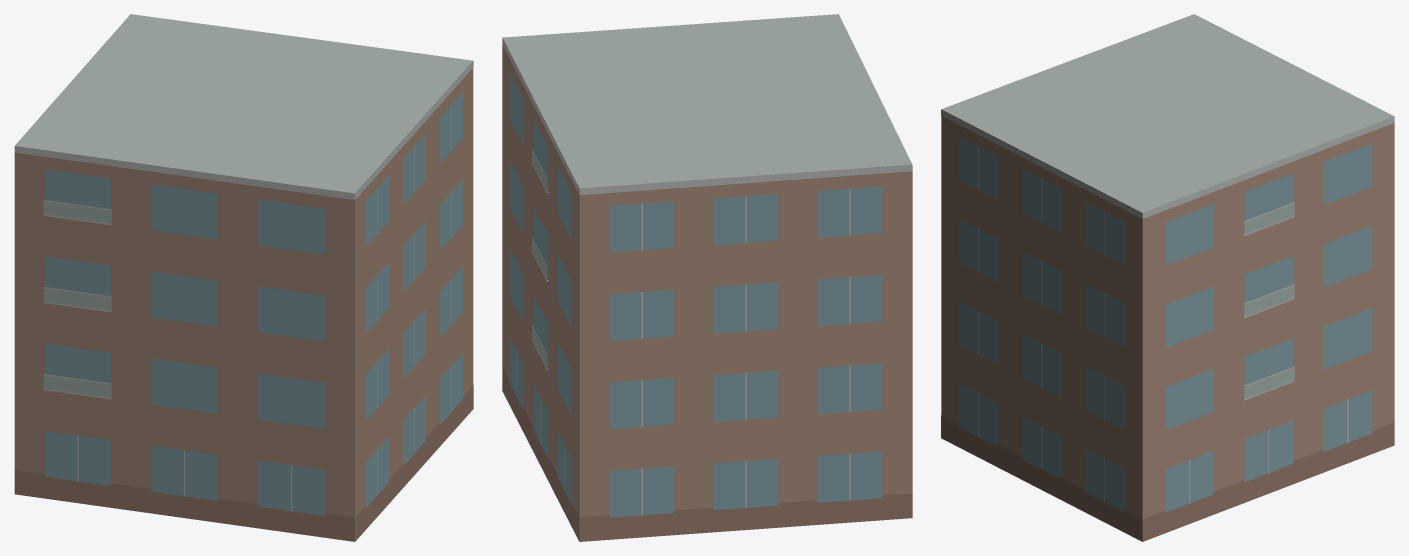
Rendered from survey-upis-32910444.glb.
The picture shows the model from 3 angles, left to right: view 1: azimuth 30°, elevation 25°; view 2: azimuth 150°, elevation 25°; view 3: azimuth 270°, elevation 25°; orthographic projection. The views are drawn at different scales.
Visible parts, largest first — view 1: survey-upis-32910444.tmp; view 2: survey-upis-32910444.tmp; view 3: survey-upis-32910444.tmp.
Boxes of the visible parts, left/top/right/bottom form: survey-upis-32910444.tmp: left=14, top=14, right=473, bottom=541; survey-upis-32910444.tmp: left=502, top=14, right=912, bottom=541; survey-upis-32910444.tmp: left=941, top=14, right=1394, bottom=541.
Bounding box in the file's own units: 16.6 × 12.8 × 16.
